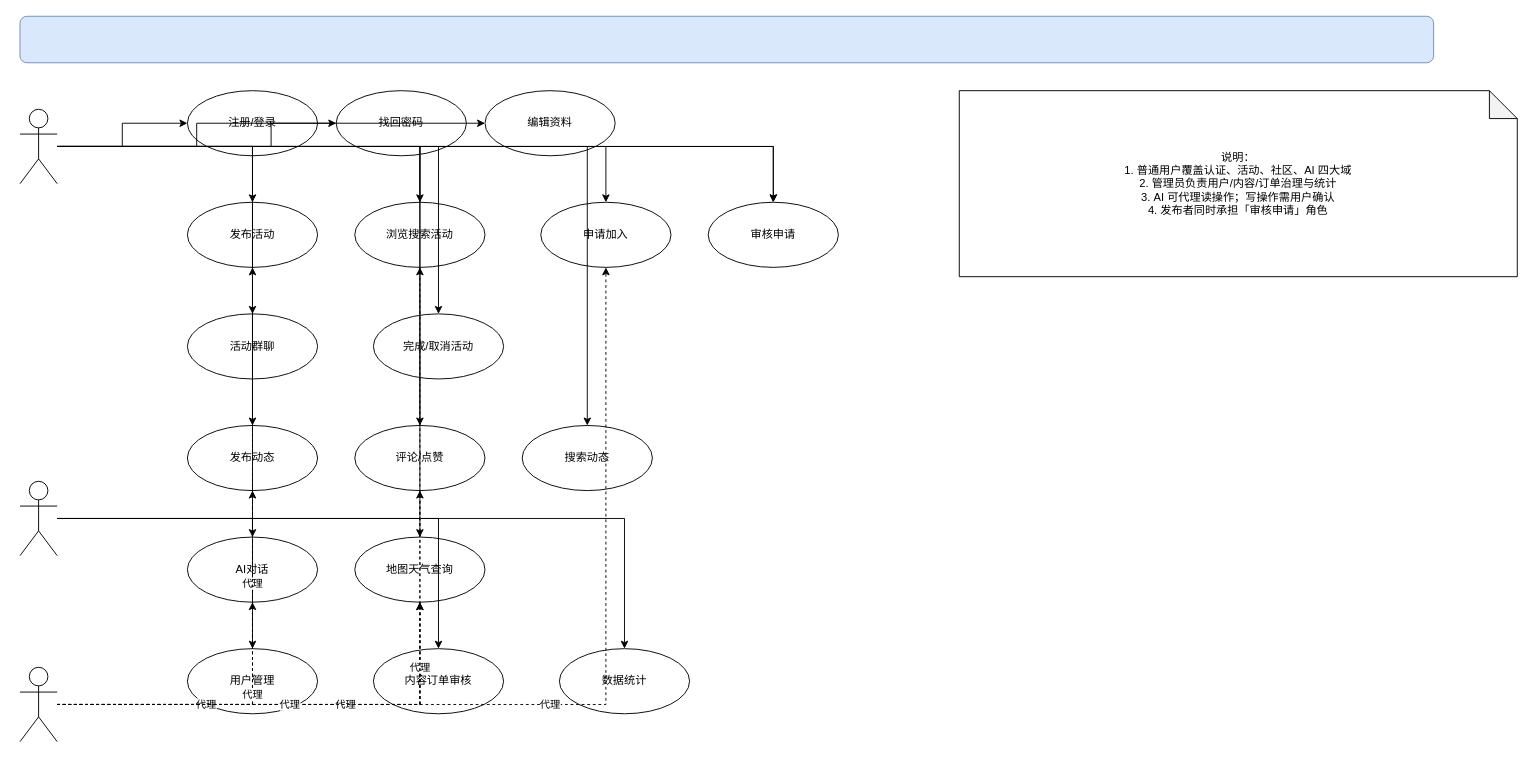
Image size: 1534x777. Some labels were removed from this diagram. The box of each missing label's shape, as (x1, y1, x2, y2) in pixels:
AI智能体: (19, 666, 57, 742)
普通用户: (19, 108, 57, 184)
校园约伴平台 — 用例图 (Use Case Diagram): (19, 15, 1434, 63)
管理员: (19, 480, 57, 556)
